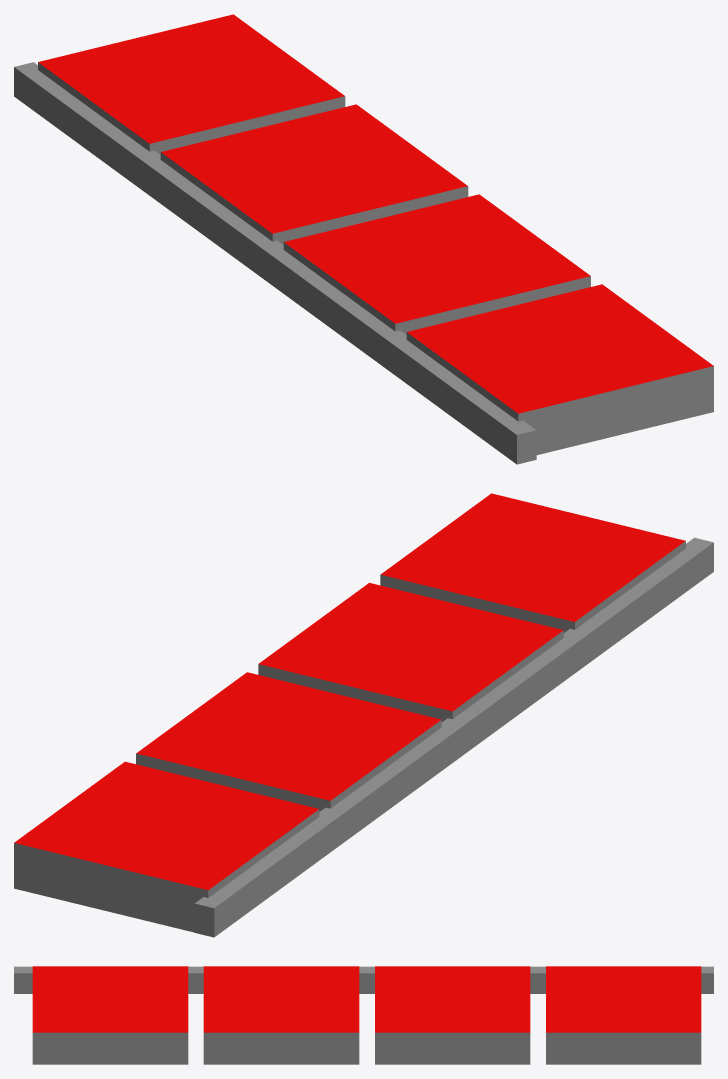
File: m_prop_Billboard_D.FBX
3 views of the same model, one above another, from view 1: azimuth 30°, elevation 25°; view 2: azimuth 150°, elevation 25°; view 3: azimuth 270°, elevation 25° (orthographic). The views are drawn at different scales.
Parts seen in each view (by area): view 1: M_Block_Billboard_G; view 2: M_Block_Billboard_G; view 3: M_Block_Billboard_G.
Boxes of the visible parts, x1,y1,x2,y2 form: M_Block_Billboard_G: (14, 14, 713, 464); M_Block_Billboard_G: (14, 493, 713, 937); M_Block_Billboard_G: (14, 966, 713, 1064).
Size of the model in its own units: 315 by 1304 by 65.84.
